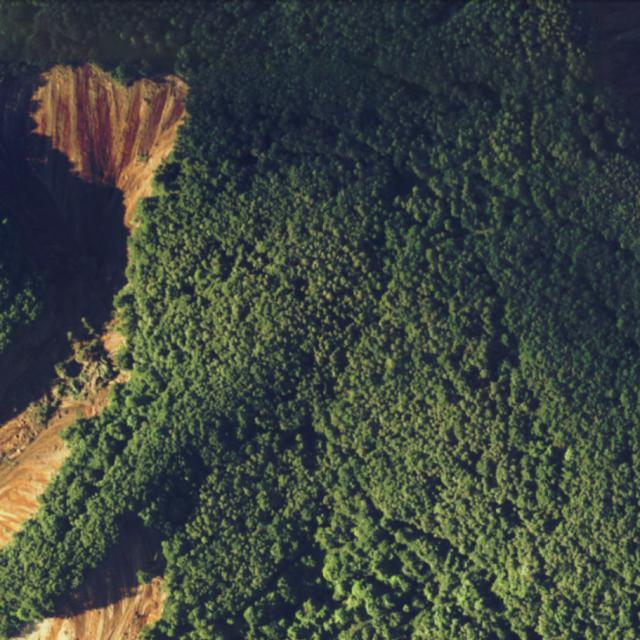landslide: (31, 63, 187, 228), (18, 519, 164, 640), (0, 389, 106, 549), (0, 413, 24, 452)
